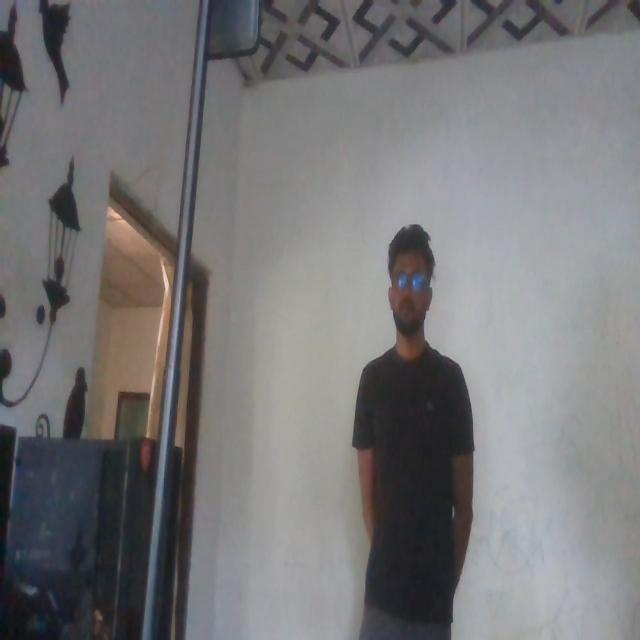Person: (354, 217, 479, 640)
